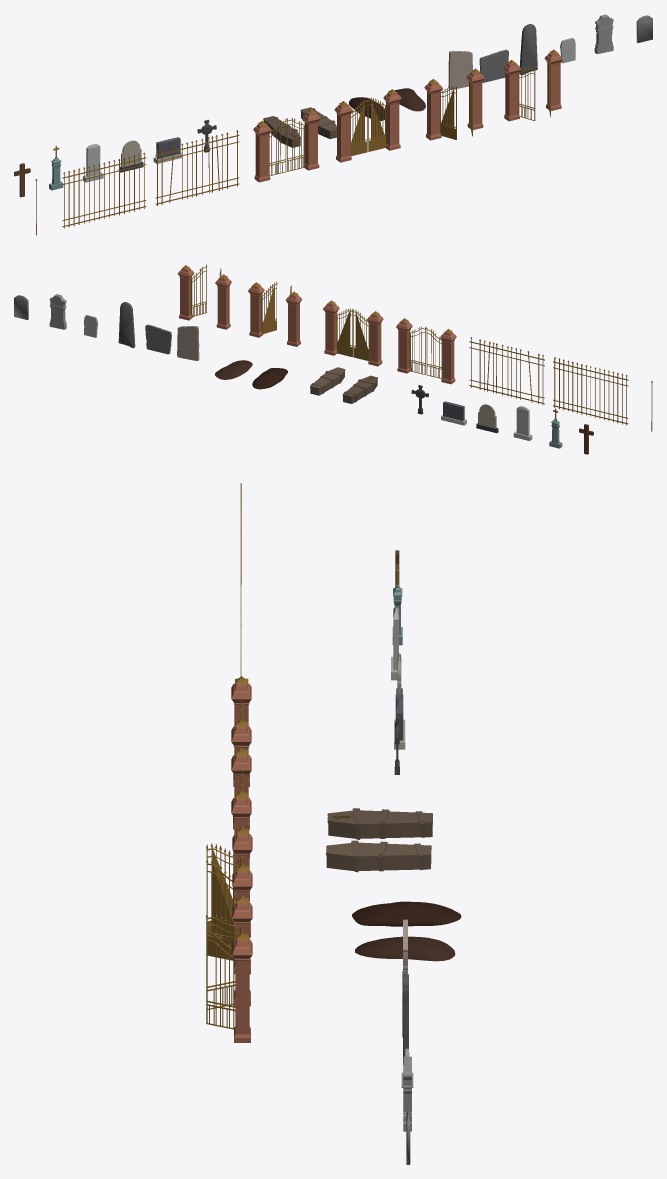
File: Cemetery.fbx
3 views of the same model, one above another, from view 1: azimuth 30°, elevation 25°; view 2: azimuth 150°, elevation 25°; view 3: azimuth 270°, elevation 25° (orthographic). The views are drawn at different scales.
Visible parts, largest first — view 1: New Cemetery Gate Closed, Old Cemetery Gate Closed, New Cemetery Gate Open, Old Cemetery Gate Open, New Fence, Old Fence, Headstone 6, Headstone 4, Headstone 5, Wooden Coffin With a Cross, Headstone 2, Headstone 8 (+8 smaller); view 2: New Cemetery Gate Closed, Old Cemetery Gate Closed, New Cemetery Gate Open, Old Cemetery Gate Open, New Fence, Old Fence, Headstone 6, Headstone 4, Headstone 5, Wooden Coffin, Wooden Coffin With a Cross, Headstone 2 (+7 smaller); view 3: Old Cemetery Gate Open, New Cemetery Gate Open, Wooden Coffin, Wooden Coffin With a Cross, Grave Ground 1, Grave Ground 2, New Cemetery Gate Closed, Old Cemetery Gate Closed.
Part boxes in pixels (bbox=[...]): New Cemetery Gate Closed: bbox=[334, 89, 401, 162]; Old Cemetery Gate Closed: bbox=[253, 109, 320, 182]; New Cemetery Gate Open: bbox=[424, 68, 484, 140]; Old Cemetery Gate Open: bbox=[502, 49, 563, 121]; New Fence: bbox=[62, 152, 146, 228]; Old Fence: bbox=[155, 130, 239, 205]; Headstone 6: bbox=[448, 51, 472, 89]; Headstone 4: bbox=[519, 24, 537, 75]; Headstone 5: bbox=[479, 49, 508, 82]; Wooden Coffin With a Cross: bbox=[263, 116, 300, 147]; Headstone 2: bbox=[594, 14, 613, 54]; Headstone 8: bbox=[83, 144, 103, 182]; New Cemetery Gate Closed: bbox=[323, 300, 383, 366]; Old Cemetery Gate Closed: bbox=[396, 318, 456, 384]; New Cemetery Gate Open: bbox=[248, 281, 302, 346]; Old Cemetery Gate Open: bbox=[177, 264, 231, 329]; New Fence: bbox=[553, 357, 628, 425]; Old Fence: bbox=[469, 337, 544, 404]; Headstone 6: bbox=[177, 326, 199, 360]; Headstone 4: bbox=[118, 302, 135, 348]; Headstone 5: bbox=[145, 324, 171, 354]; Wooden Coffin: bbox=[310, 367, 345, 395]; Wooden Coffin With a Cross: bbox=[342, 375, 377, 403]; Headstone 2: bbox=[49, 294, 66, 329]; Old Cemetery Gate Open: bbox=[206, 895, 252, 1042]; New Cemetery Gate Open: bbox=[206, 826, 252, 974]; Wooden Coffin: bbox=[326, 840, 431, 872]; Wooden Coffin With a Cross: bbox=[327, 808, 432, 839]; Grave Ground 1: bbox=[352, 901, 461, 926]; Grave Ground 2: bbox=[355, 936, 455, 961]; New Cemetery Gate Closed: bbox=[231, 747, 251, 900]; Old Cemetery Gate Closed: bbox=[231, 676, 251, 829].
Size of the model in its own units: 3488 by 311 by 647.
